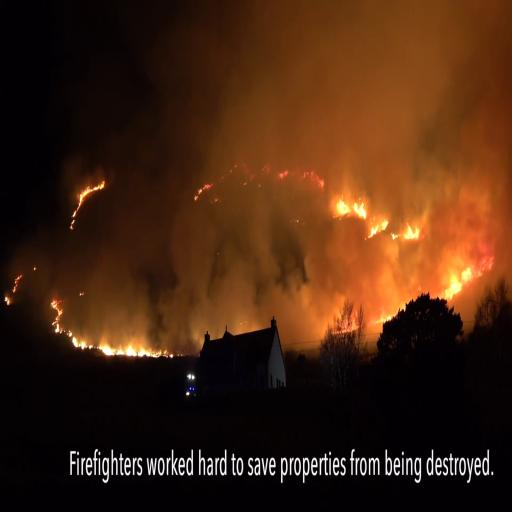fire: (69, 335, 164, 360), (442, 263, 476, 303), (335, 191, 365, 222), (394, 223, 422, 241)
smoke: (249, 0, 512, 131), (197, 205, 321, 310)
